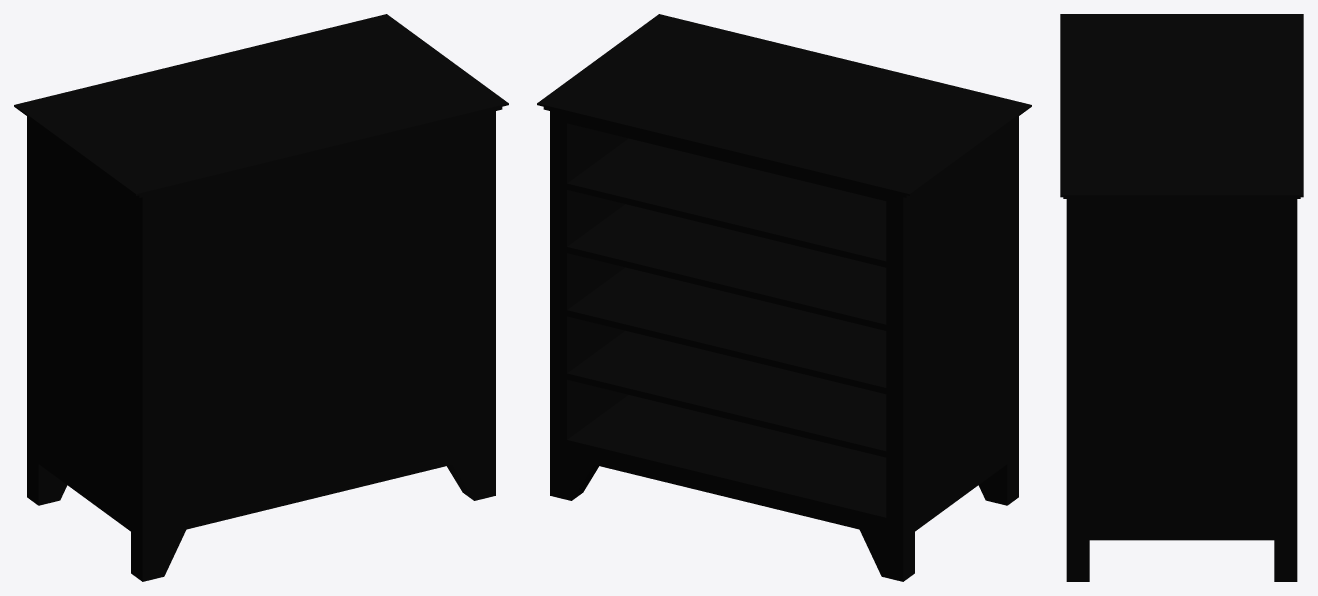
Rendered from Mueble8.fbx.
The picture shows the model from 3 angles, left to right: view 1: azimuth 30°, elevation 25°; view 2: azimuth 150°, elevation 25°; view 3: azimuth 270°, elevation 25°; orthographic projection.
Parts seen in each view (by area): view 1: pCube7; view 2: pCube7; view 3: pCube7.
Boxes of the visible parts, left/top/right/bottom form: pCube7: left=14, top=14, right=508, bottom=581; pCube7: left=537, top=14, right=1031, bottom=581; pCube7: left=1060, top=14, right=1303, bottom=581.
Size of the model in its own units: 9.22 by 9.27 by 5.23.
